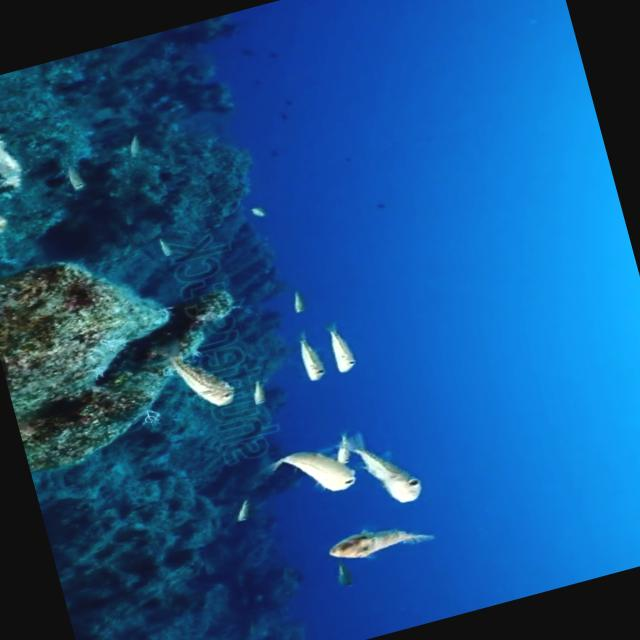Balon Baligi: (318, 508, 441, 577), (347, 426, 443, 510), (264, 433, 366, 508), (162, 341, 255, 423), (288, 327, 338, 390), (322, 316, 370, 376)
